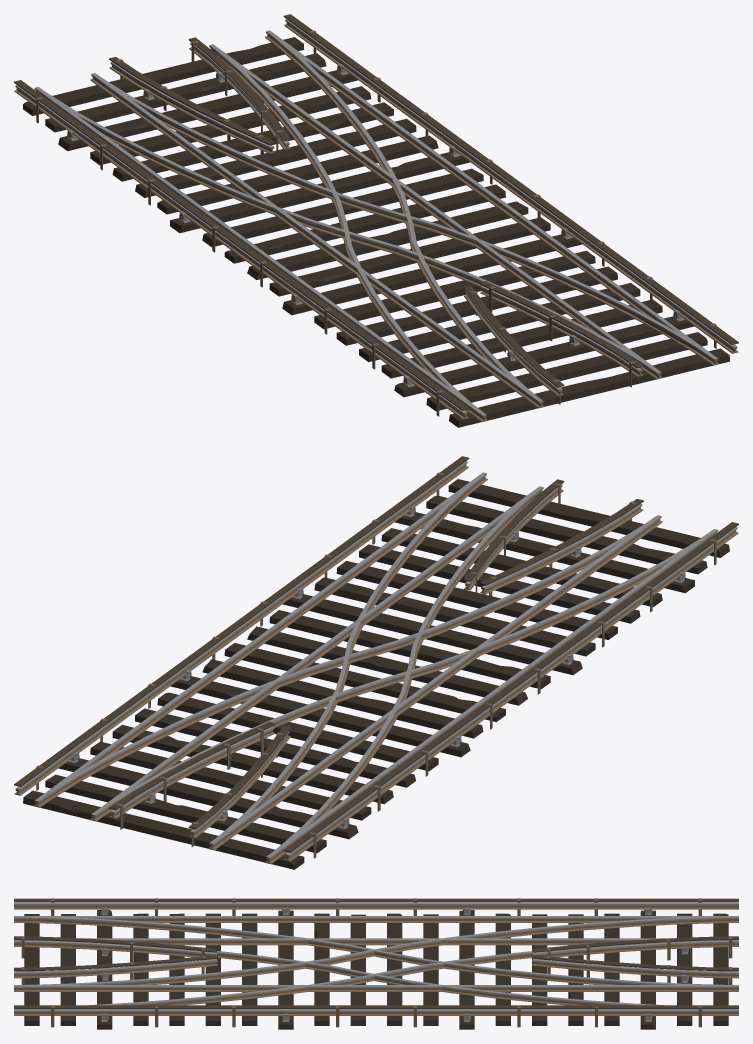
The model's file is SW_ENV_Track_DoubleToDouble_DoubleCross_20m.fbx.
The picture shows the model from 3 angles, top to bottom: view 1: azimuth 30°, elevation 25°; view 2: azimuth 150°, elevation 25°; view 3: azimuth 270°, elevation 25°; orthographic projection. The views are drawn at different scales.
Parts seen in each view (by area): view 1: SW_ENV_Track_DoubleToDouble_DoubleCross_20m; view 2: SW_ENV_Track_DoubleToDouble_DoubleCross_20m; view 3: SW_ENV_Track_DoubleToDouble_DoubleCross_20m.
Part boxes in pixels (box(x1,y1,x2,y2)): SW_ENV_Track_DoubleToDouble_DoubleCross_20m: box(14, 14, 738, 427); SW_ENV_Track_DoubleToDouble_DoubleCross_20m: box(14, 456, 738, 869); SW_ENV_Track_DoubleToDouble_DoubleCross_20m: box(14, 898, 738, 1029).
Bounding box in the file's own units: 750 × 58.74 × 2000.
